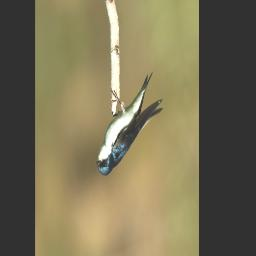Swallow: (88, 64, 170, 181)
